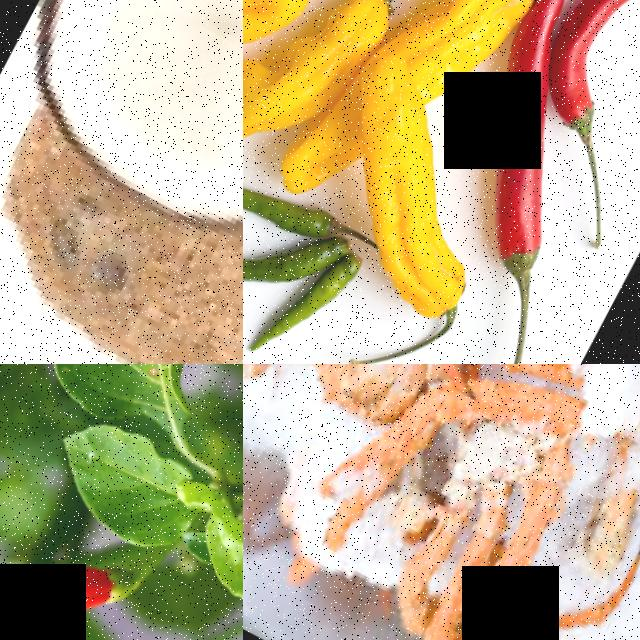chilli: (435, 78, 613, 294), (0, 507, 148, 640), (525, 0, 640, 150), (243, 144, 336, 256), (505, 0, 640, 71), (243, 203, 309, 315)
coconut: (0, 0, 243, 268)
crab: (363, 409, 592, 640), (358, 364, 517, 511)
